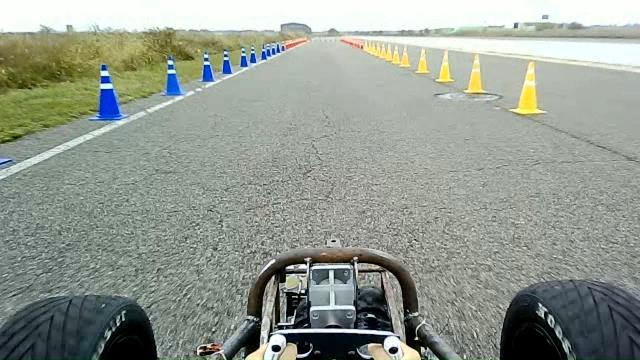blue cone: (88, 63, 128, 121), (160, 54, 185, 96), (200, 51, 215, 82), (221, 49, 232, 74), (239, 47, 248, 67), (248, 44, 256, 63), (260, 43, 268, 60), (265, 43, 273, 58), (270, 42, 276, 56), (275, 42, 281, 55)
yellow cone: (509, 60, 547, 115), (463, 53, 488, 94), (435, 48, 455, 83), (415, 46, 430, 74), (399, 46, 411, 67), (391, 45, 401, 65), (385, 43, 393, 62), (375, 42, 382, 58), (379, 44, 386, 59), (369, 42, 376, 56)
